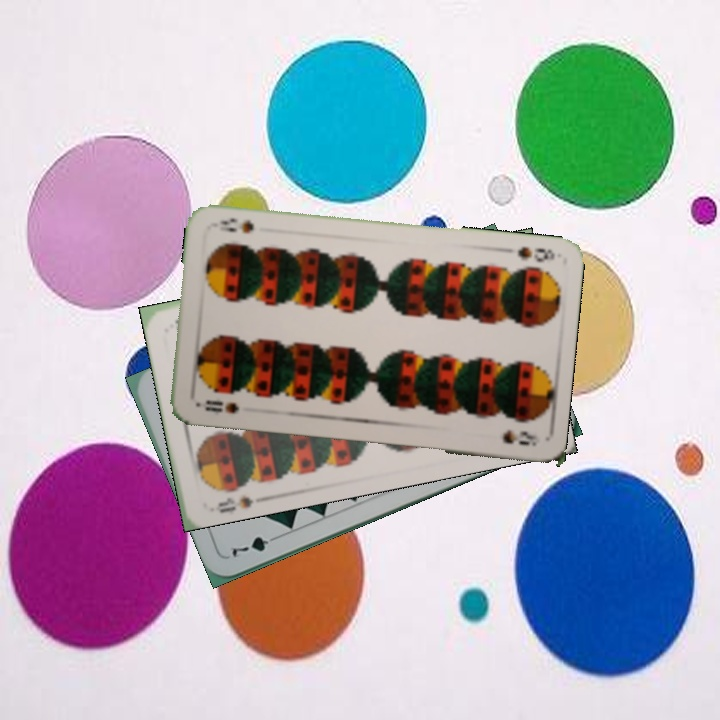G7: (227, 530, 283, 561)
S8: (499, 242, 557, 265), (214, 491, 256, 516), (200, 396, 242, 416)
